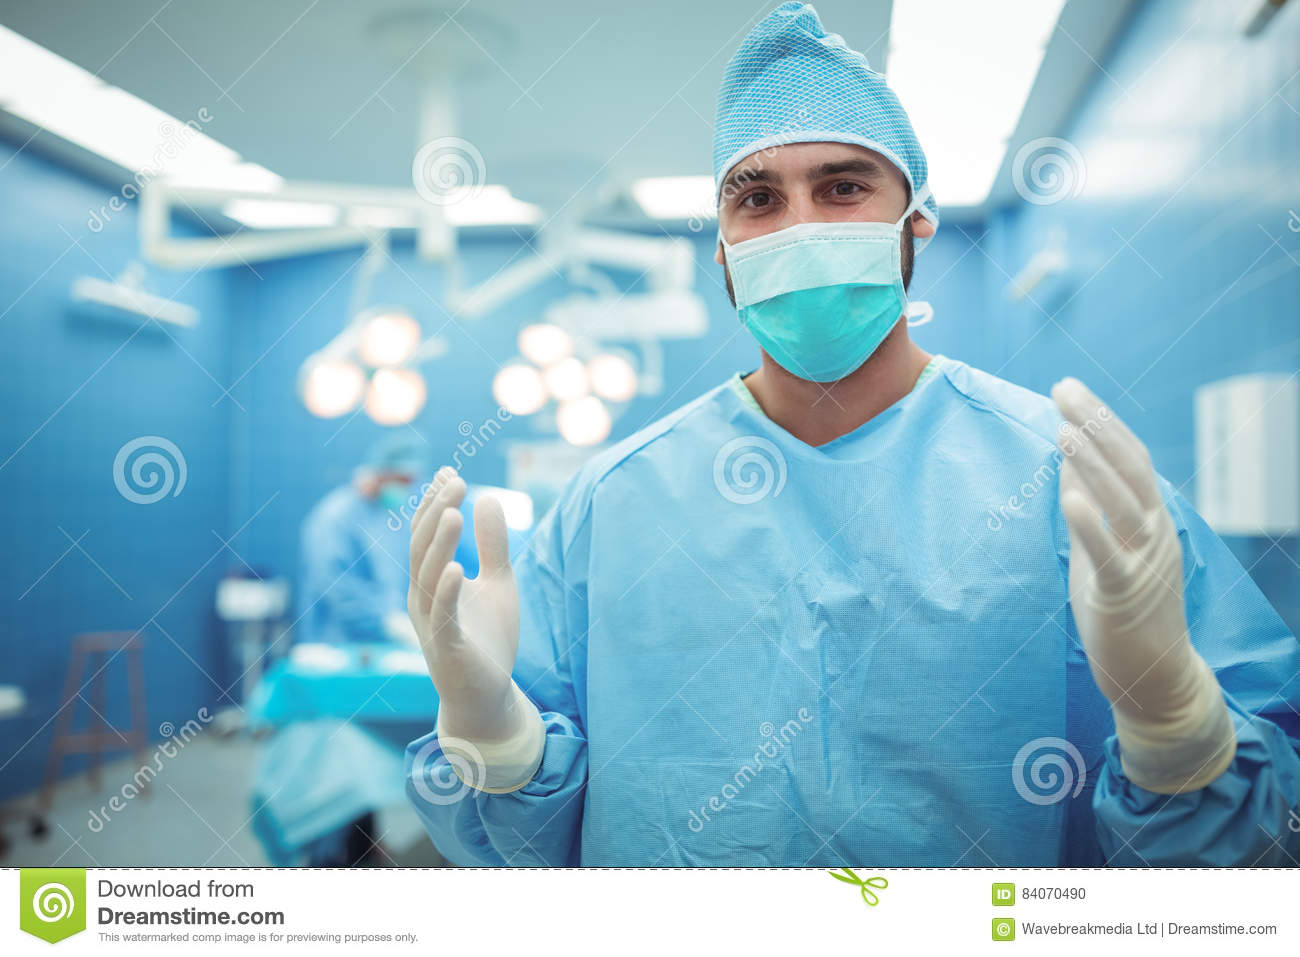mask: (720, 239, 932, 370)
